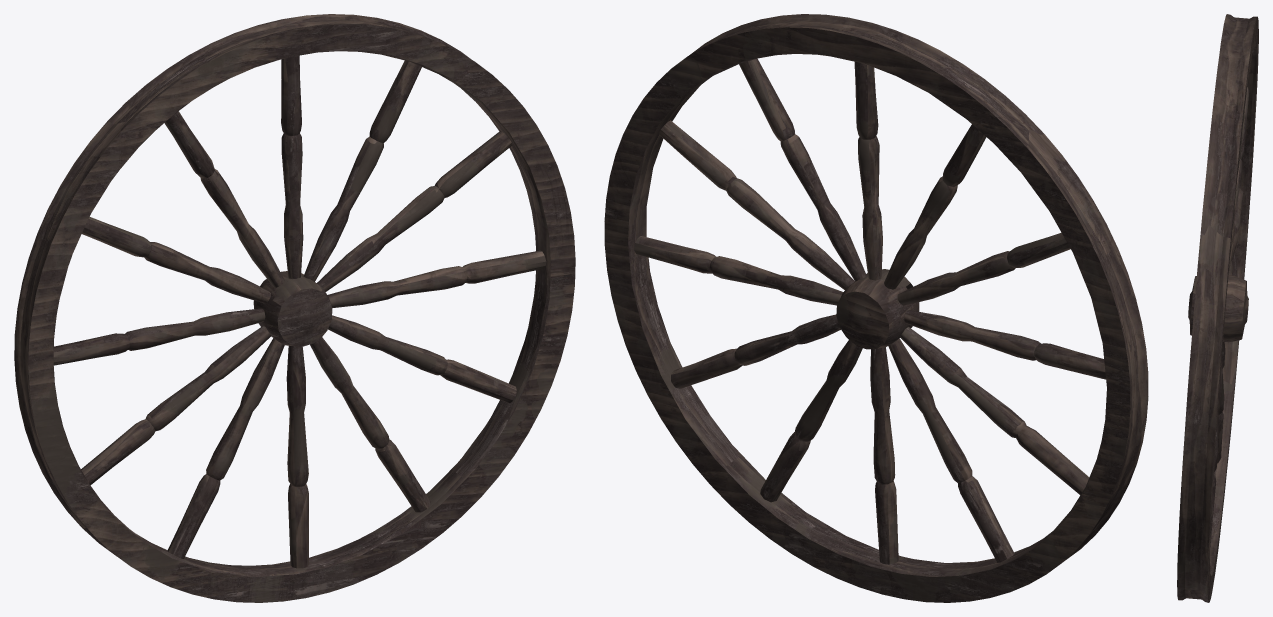
The model's file is wheel-sew.glb.
3 renders of one model, left to right at view 1: azimuth 30°, elevation 25°; view 2: azimuth 150°, elevation 25°; view 3: azimuth 270°, elevation 25°, orthographic. The views are drawn at different scales.
Parts seen in each view (by area): view 1: spinning_wheel_01.001; view 2: spinning_wheel_01.001; view 3: spinning_wheel_01.001.
Boxes of the visible parts, x1,y1,x2,y2 form: spinning_wheel_01.001: (14,14,575,602); spinning_wheel_01.001: (604,14,1148,602); spinning_wheel_01.001: (1177,14,1258,602).
Size of the model in its own units: 1.48 by 1.48 by 0.2058.
1 material, 1 textured.
